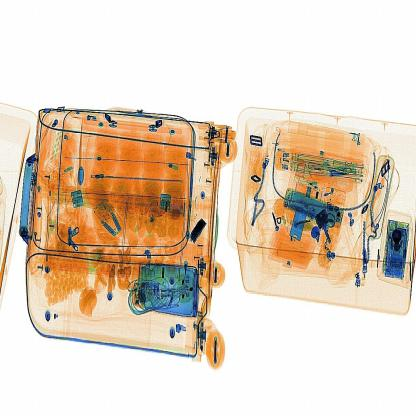scissors: (188, 213, 213, 245)
